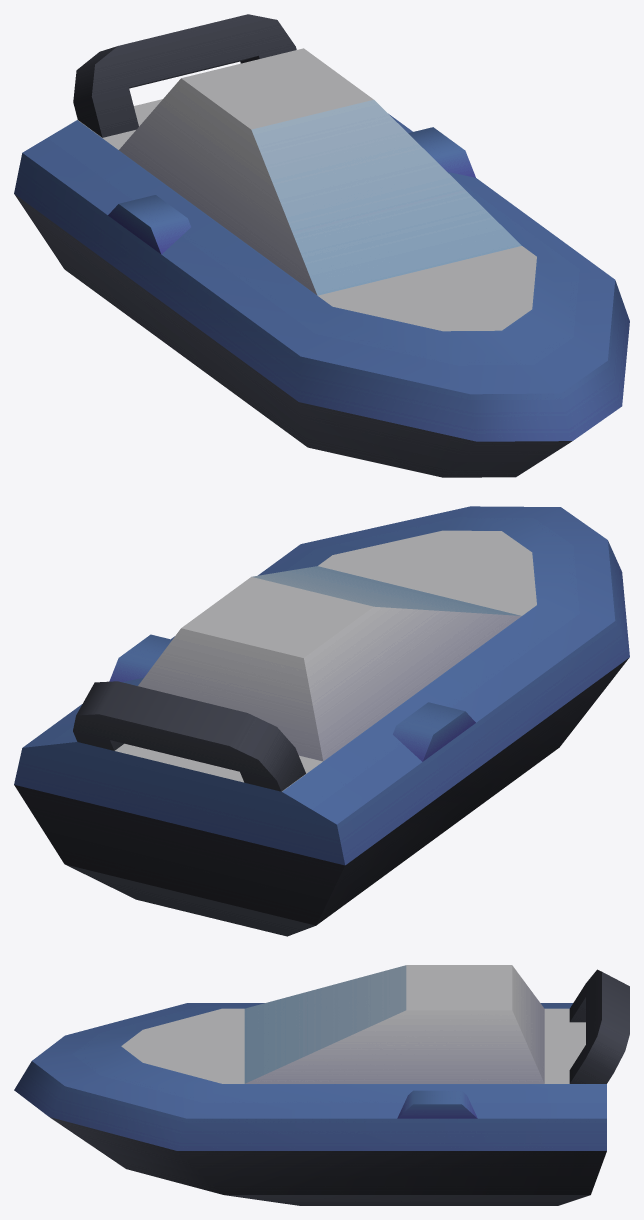
The model's file is boat_speed_g.glb.
3 renders of one model, top to bottom at view 1: azimuth 30°, elevation 25°; view 2: azimuth 150°, elevation 25°; view 3: azimuth 270°, elevation 25°, orthographic. The views are drawn at different scales.
Visible parts, largest first — view 1: boat-speed-g; view 2: boat-speed-g; view 3: boat-speed-g.
Part boxes in pixels (x1,y1,x2,y2): boat-speed-g: (14, 14, 629, 477); boat-speed-g: (14, 506, 629, 936); boat-speed-g: (14, 965, 629, 1205).
Bounding box in the file's own units: 1.78 × 1.3 × 3.81.
Materials: 1 (1 with a texture image).
